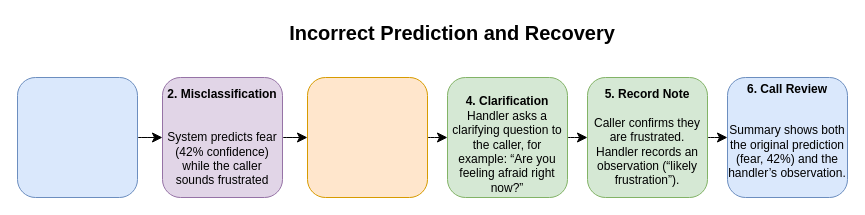
Some shapes in this 865 by 215 pixel diagram are drawn without their labels. Here are the shapes that lost their labels. From the top down, the centre of each, then its label:
point 77,137: 1. Start Call Handler selects Scenario B (Incorrect Prediction).
point 367,137: 3. Uncertainty A low-confidence warning appears (“Result may be unreliable”).
